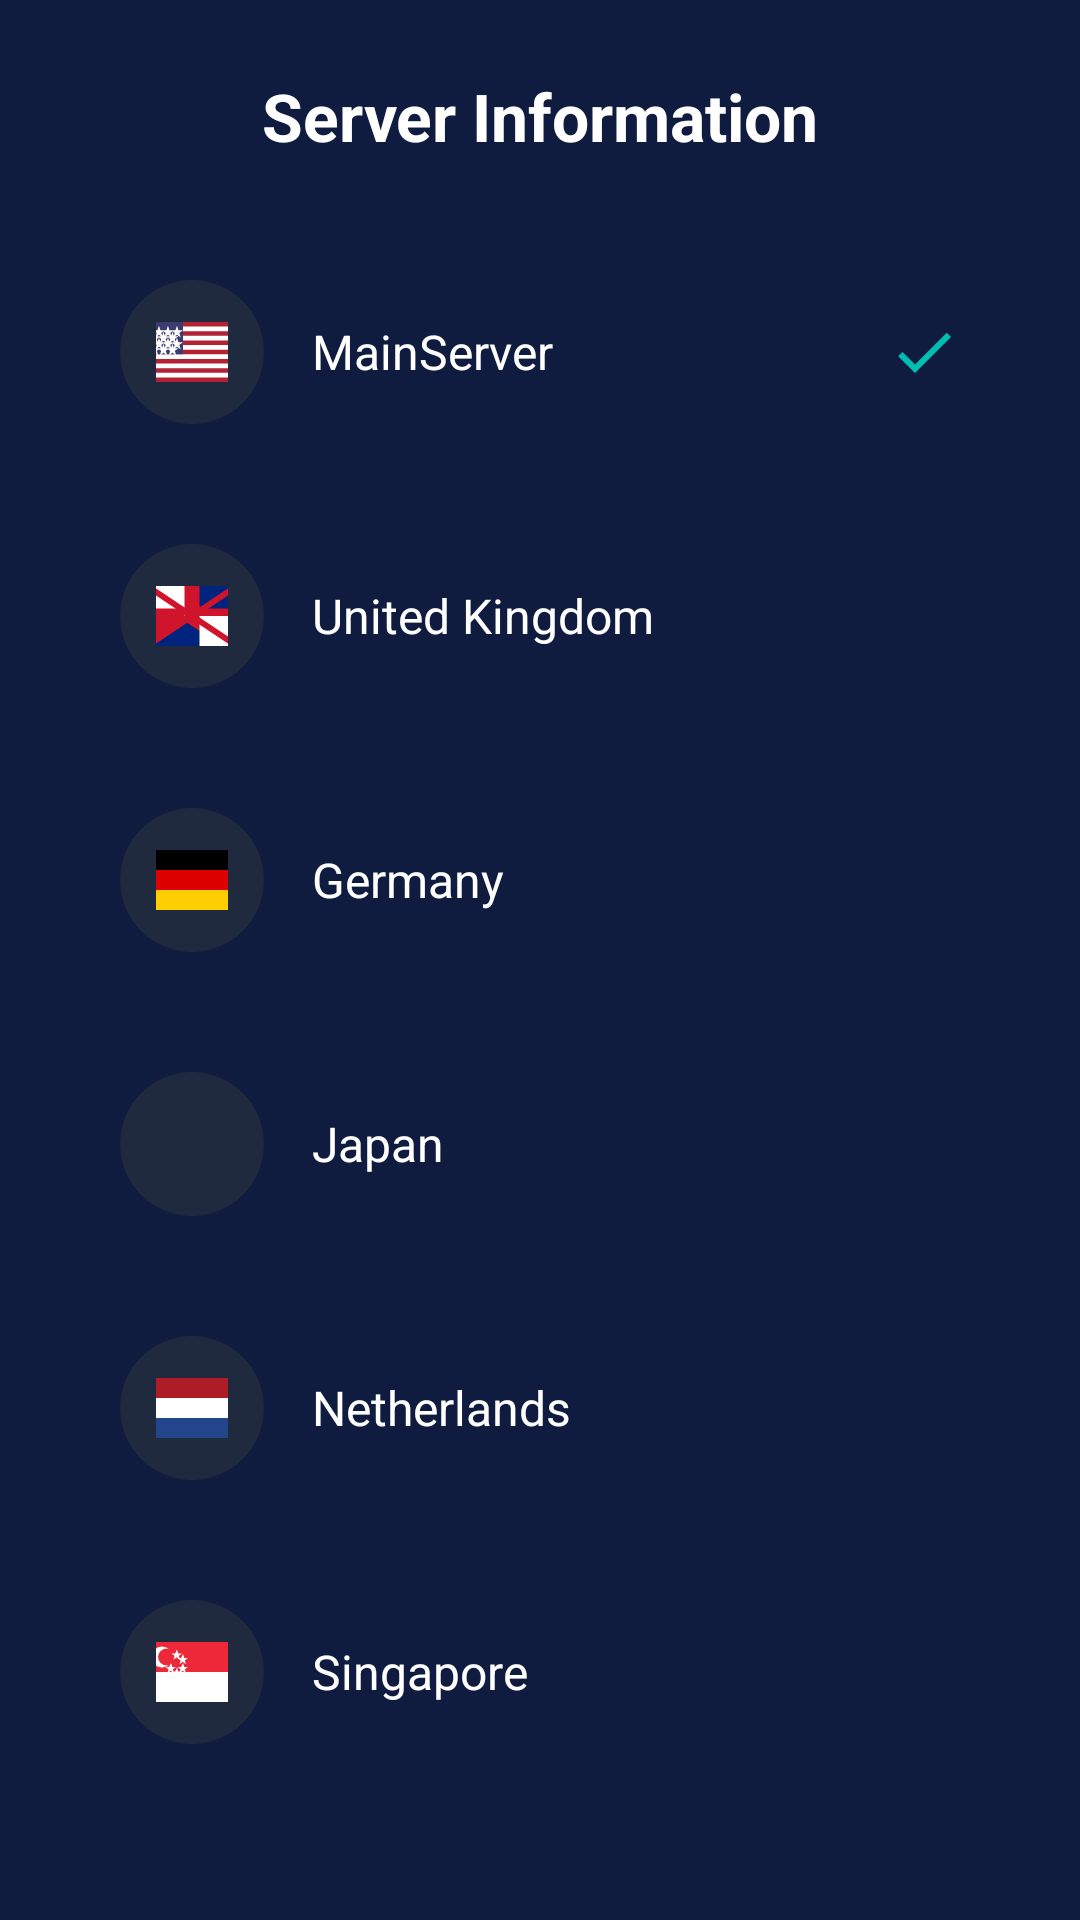

Screen size 1080px x 1920px. Icon name, then its center in pixels as [x,y]:
flag uk: [192,616]
flag us: [192,352]
